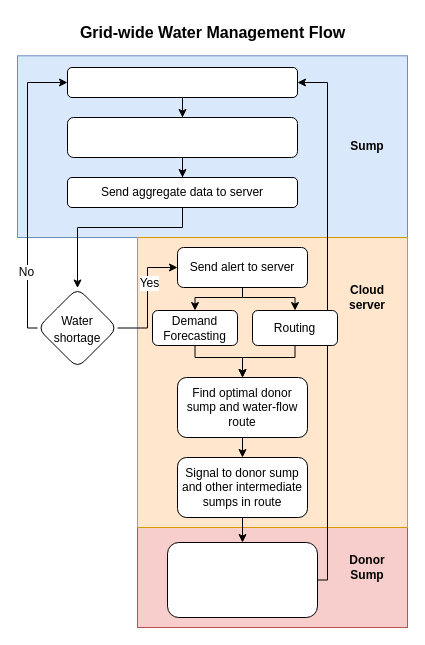
Some shapes in this 425 by 645 pixel diagram are drawn without their labels. The shapes that lost their labels are listed below. From the top down, each one's centre as x and y in pixels, then its label:
point (182, 82): Collect water level at frequent intervals
point (182, 137): Prune/Aggregate data collected over a period of time
point (242, 580): Pump water out the respective out-going pipeline in the identified route
